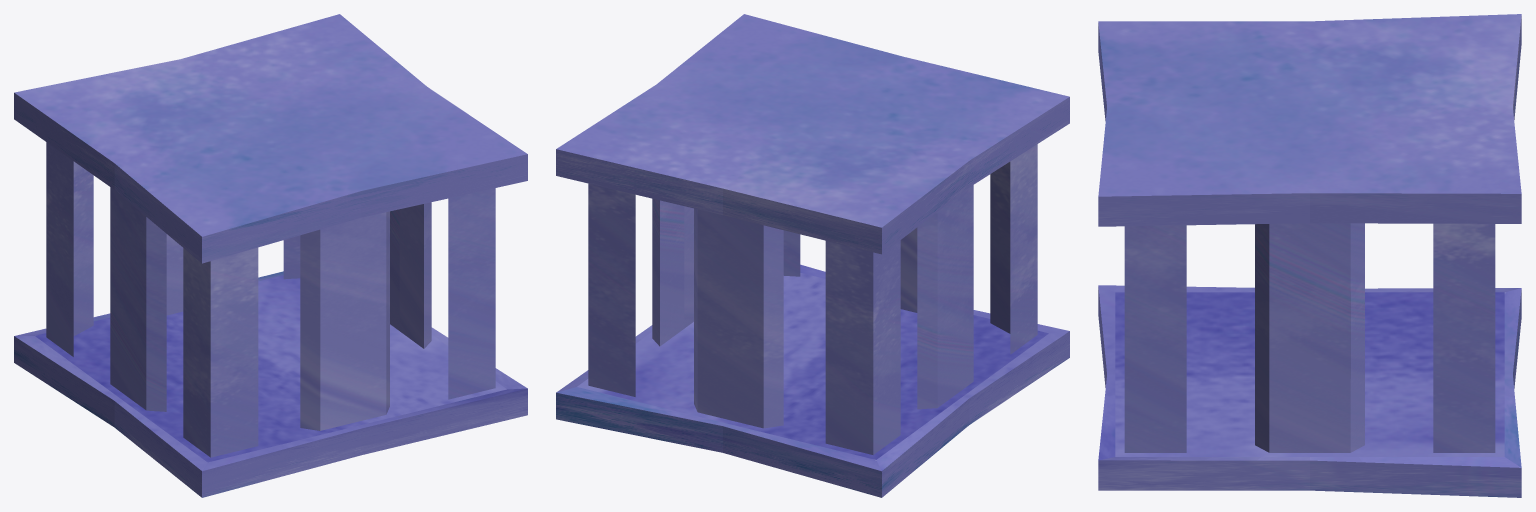
The model's file is Jaula_close.glb.
3 renders of one model, left to right at view 1: azimuth 30°, elevation 25°; view 2: azimuth 150°, elevation 25°; view 3: azimuth 270°, elevation 25°, orthographic. The views are drawn at different scales.
Parts seen in each view (by area): view 1: L_jaula_open; view 2: L_jaula_open; view 3: L_jaula_open.
Boxes of the visible parts, <box> form: L_jaula_open: <box>14,14,527,497</box>; L_jaula_open: <box>556,14,1069,497</box>; L_jaula_open: <box>1098,14,1521,497</box>.
Size of the model in its own units: 2.38 by 1.89 by 2.38.
Materials: 1 (1 with a texture image).
